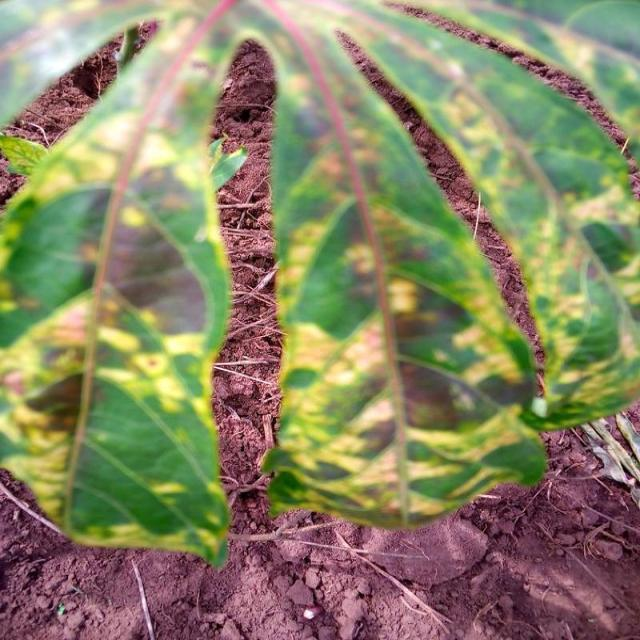cassava leaf: (2, 0, 639, 561), (2, 24, 246, 568)
